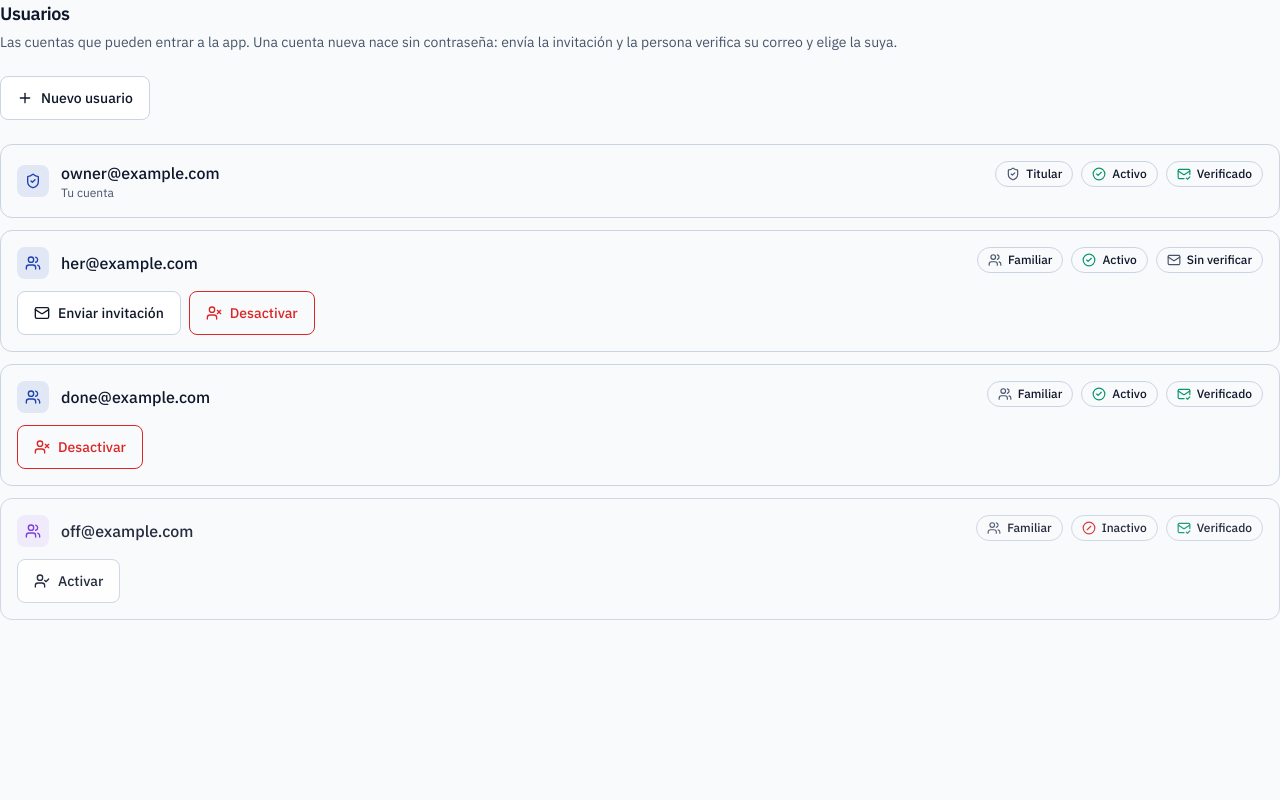
Scenario: UsersSection › cancelling a confirmation changes nothing
Click the button "Desactivar" below "her@example.com".
click(252, 313)  # box [189,291,315,335]
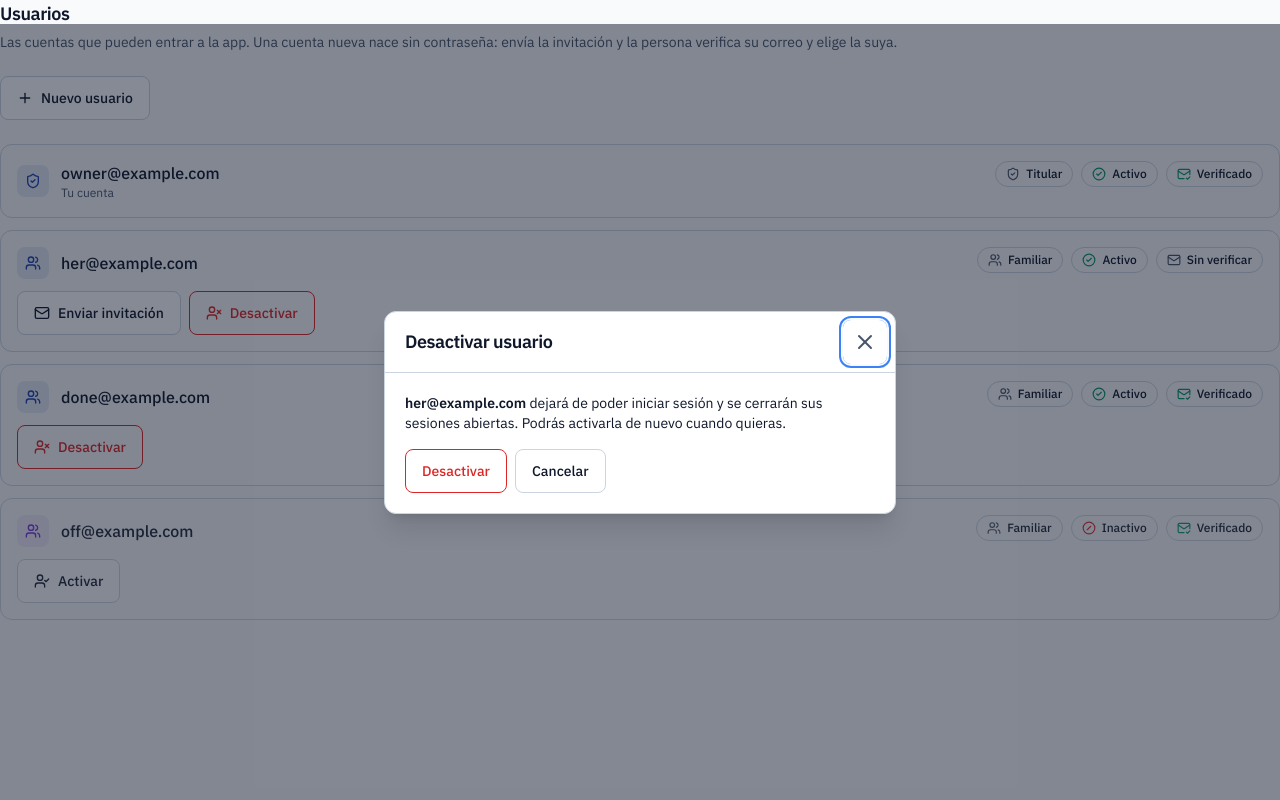
Click the button "Cancelar".
click(560, 470)  # box [515,448,606,492]
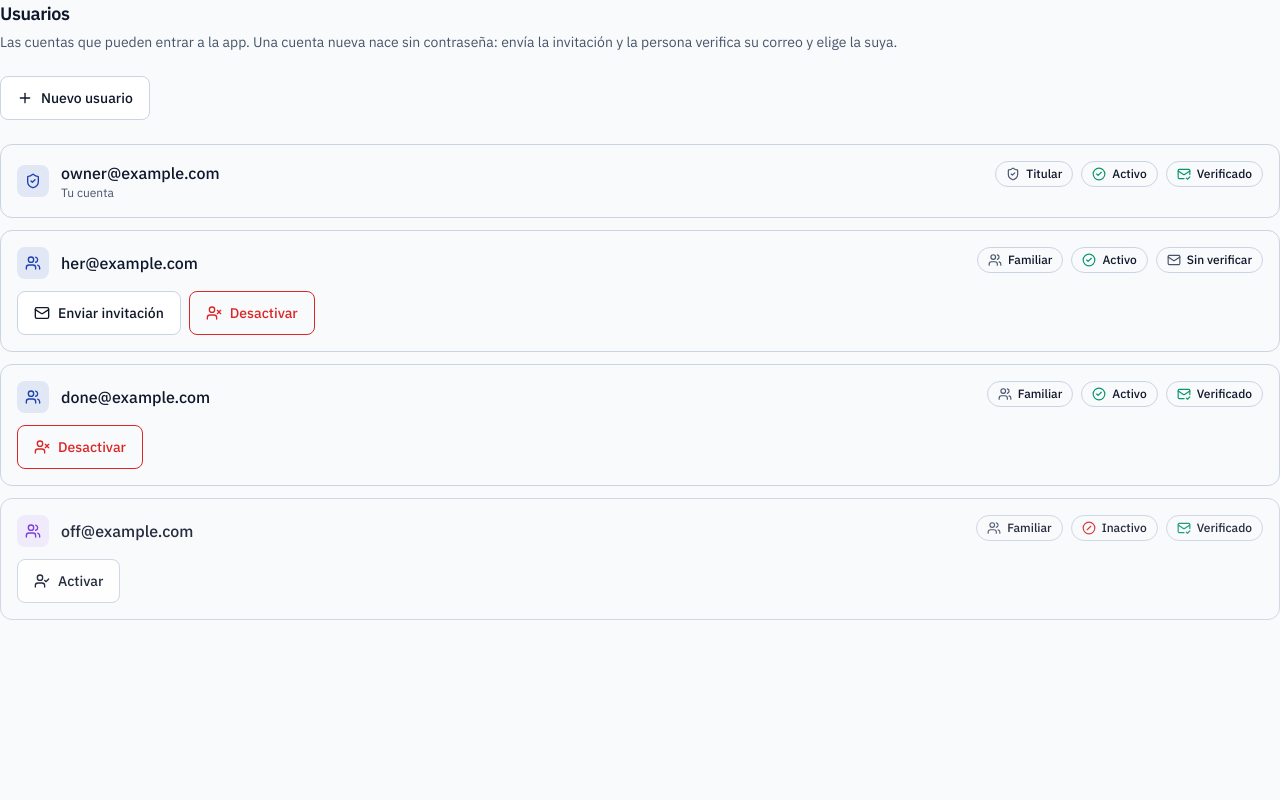
Result: the dialog is gone
